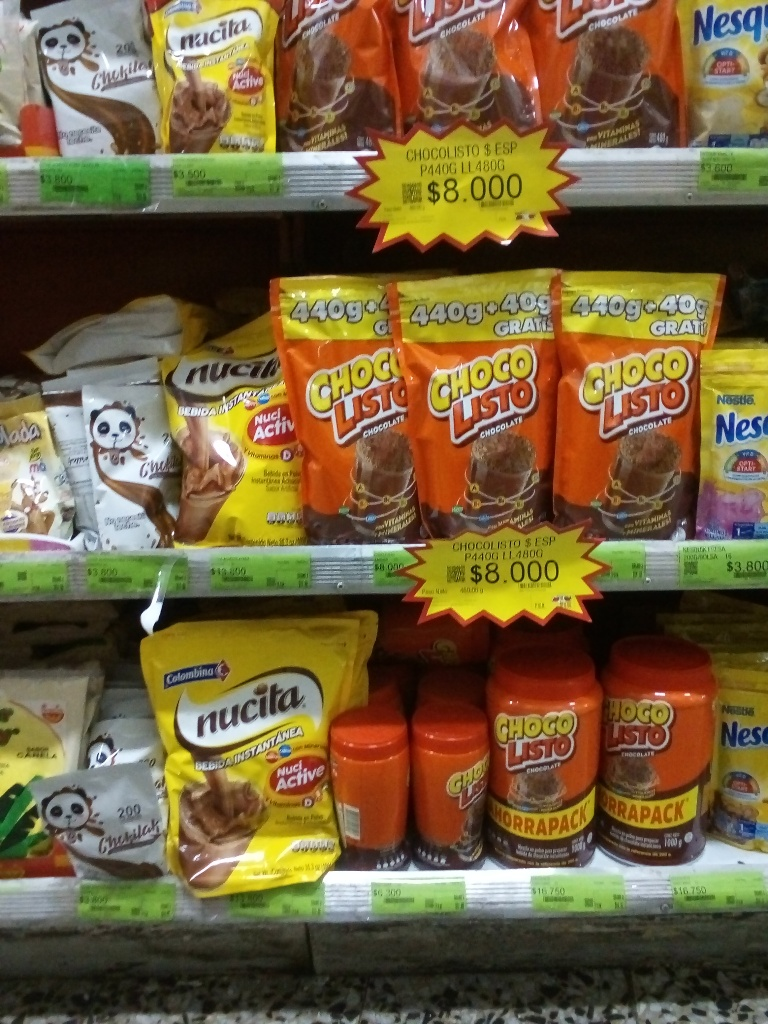COL0170103TRR00100: (604, 632, 721, 868)
COL0170103TRR30000: (407, 698, 494, 869)
COL0170303DYP20000: (714, 670, 767, 858)
COL0170305DYP20000: (692, 343, 768, 541)
COL0170306DYP20000: (681, 0, 768, 148)
